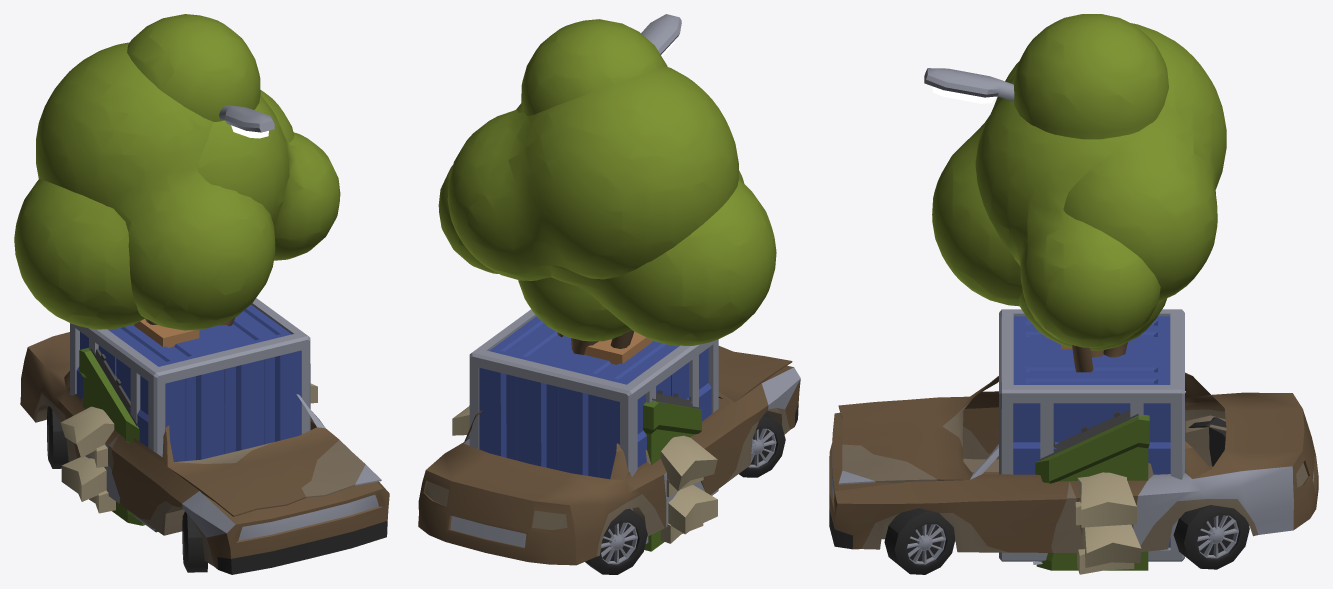
Rendered from bs-props.glb.
The picture shows the model from 3 angles, left to right: view 1: azimuth 30°, elevation 25°; view 2: azimuth 150°, elevation 25°; view 3: azimuth 270°, elevation 25°; orthographic projection. The views are drawn at different scales.
Visible parts, largest first — view 1: Tree_1, Debris_BrokenCar, Tree_3, Container_Small, Tree_2, SackTrench, TrashContainer, StreetLight, CardboardBoxes_3; view 2: Tree_1, Debris_BrokenCar, Container_Small, Tree_3, Tree_2, SackTrench, TrashContainer, CardboardBoxes_3, StreetLight; view 3: Debris_BrokenCar, Tree_1, Tree_3, Container_Small, Tree_2, TrashContainer, SackTrench, StreetLight.
Boxes of the visible parts, bbox=[...] form: Tree_1: bbox=[36, 42, 293, 330]; Debris_BrokenCar: bbox=[20, 332, 389, 574]; Tree_3: bbox=[14, 95, 340, 329]; Container_Small: bbox=[70, 298, 310, 532]; Tree_2: bbox=[127, 14, 260, 121]; SackTrench: bbox=[60, 383, 317, 513]; TrashContainer: bbox=[79, 347, 144, 525]; StreetLight: bbox=[219, 105, 274, 138]; CardboardBoxes_3: bbox=[134, 319, 199, 347]; Tree_1: bbox=[447, 67, 744, 354]; Debris_BrokenCar: bbox=[418, 346, 800, 574]; Container_Small: bbox=[469, 309, 718, 543]; Tree_3: bbox=[438, 103, 776, 348]; Tree_2: bbox=[518, 19, 667, 341]; SackTrench: bbox=[452, 405, 717, 543]; TrashContainer: bbox=[643, 390, 701, 551]; CardboardBoxes_3: bbox=[584, 331, 652, 364]; StreetLight: bbox=[641, 14, 681, 56]; Debris_BrokenCar: bbox=[829, 372, 1318, 574]; Tree_1: bbox=[932, 23, 1226, 357]; Tree_3: bbox=[975, 99, 1160, 372]; Container_Small: bbox=[999, 309, 1184, 561]; Tree_2: bbox=[1013, 14, 1168, 357]; TrashContainer: bbox=[1035, 410, 1149, 570]; SackTrench: bbox=[1075, 472, 1141, 574]; StreetLight: bbox=[924, 68, 1014, 103].
Size of the model in its own units: 4.27 by 6.32 by 5.49.
